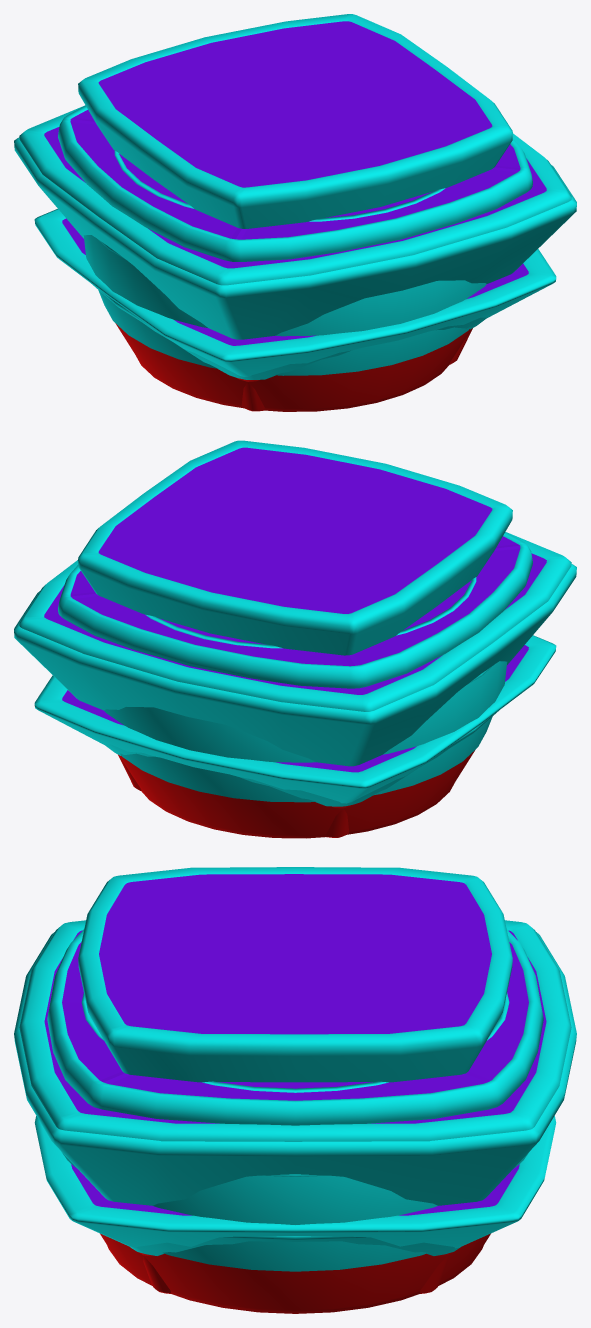
The model's file is bowls_grp.fbx.
3 renders of one model, top to bottom at view 1: azimuth 30°, elevation 25°; view 2: azimuth 150°, elevation 25°; view 3: azimuth 270°, elevation 25°, orthographic. The views are drawn at different scales.
Visible parts, largest first — view 1: bowl_liquid_volume_2, bowl_18, bowl_2, bowl_14, bowl_21, bowl_7, bowl_25, bowl_liquid_volume_7, bowl_liquid_volume_21, bowl_liquid_volume_25, bowl_19, bowl_9 (+1 smaller); view 2: bowl_liquid_volume_2, bowl_18, bowl_2, bowl_14, bowl_21, bowl_7, bowl_25, bowl_liquid_volume_7, bowl_liquid_volume_21, bowl_liquid_volume_25, bowl_19, bowl_9 (+1 smaller); view 3: bowl_liquid_volume_2, bowl_18, bowl_2, bowl_14, bowl_21, bowl_7, bowl_25, bowl_liquid_volume_7, bowl_liquid_volume_21, bowl_19, bowl_liquid_volume_25, bowl_9 (+1 smaller).
Part boxes in pixels (x1,y1,x2,y2): bowl_liquid_volume_2: [98, 21, 492, 187]; bowl_18: [83, 235, 486, 411]; bowl_2: [78, 14, 512, 228]; bowl_14: [14, 137, 576, 411]; bowl_21: [19, 105, 571, 285]; bowl_7: [58, 105, 532, 261]; bowl_25: [34, 209, 556, 376]; bowl_liquid_volume_7: [70, 110, 520, 239]; bowl_liquid_volume_21: [44, 127, 546, 268]; bowl_liquid_volume_25: [62, 218, 528, 345]; bowl_19: [91, 283, 486, 381]; bowl_9: [114, 151, 445, 221]; bowl_liquid_volume_2: [98, 447, 492, 613]; bowl_18: [104, 661, 507, 837]; bowl_2: [78, 440, 512, 655]; bowl_14: [14, 564, 576, 837]; bowl_21: [19, 532, 571, 711]; bowl_7: [58, 532, 532, 688]; bowl_25: [34, 635, 556, 803]; bowl_liquid_volume_7: [70, 536, 520, 666]; bowl_liquid_volume_21: [44, 553, 546, 694]; bowl_liquid_volume_25: [62, 645, 528, 772]; bowl_19: [104, 711, 498, 808]; bowl_9: [145, 577, 476, 648]; bowl_liquid_volume_2: [99, 874, 491, 1034]; bowl_18: [62, 1152, 528, 1312]; bowl_2: [78, 867, 512, 1082]; bowl_14: [14, 932, 576, 1293]; bowl_21: [19, 920, 571, 1141]; bowl_7: [47, 929, 543, 1125]; bowl_25: [34, 1116, 556, 1248]; bowl_liquid_volume_7: [62, 942, 528, 1100]; bowl_liquid_volume_21: [44, 930, 546, 1123]; bowl_19: [130, 1236, 460, 1256]; bowl_liquid_volume_25: [71, 1164, 519, 1215]; bowl_9: [81, 993, 509, 1092].
Bounding box in the file's own units: 24.21 × 14.02 × 25.11.
